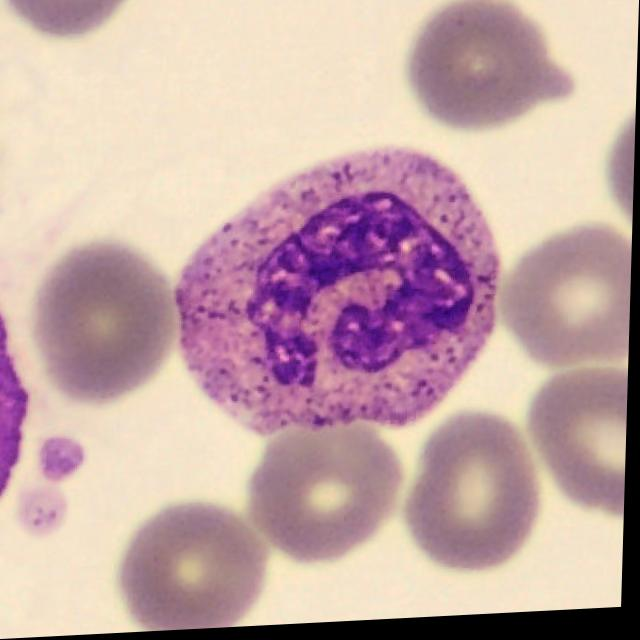Neutrofilo segmentado: (176, 151, 503, 441)
